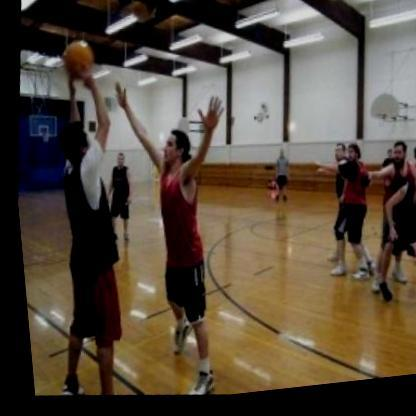basketball: (58, 31, 99, 81)
